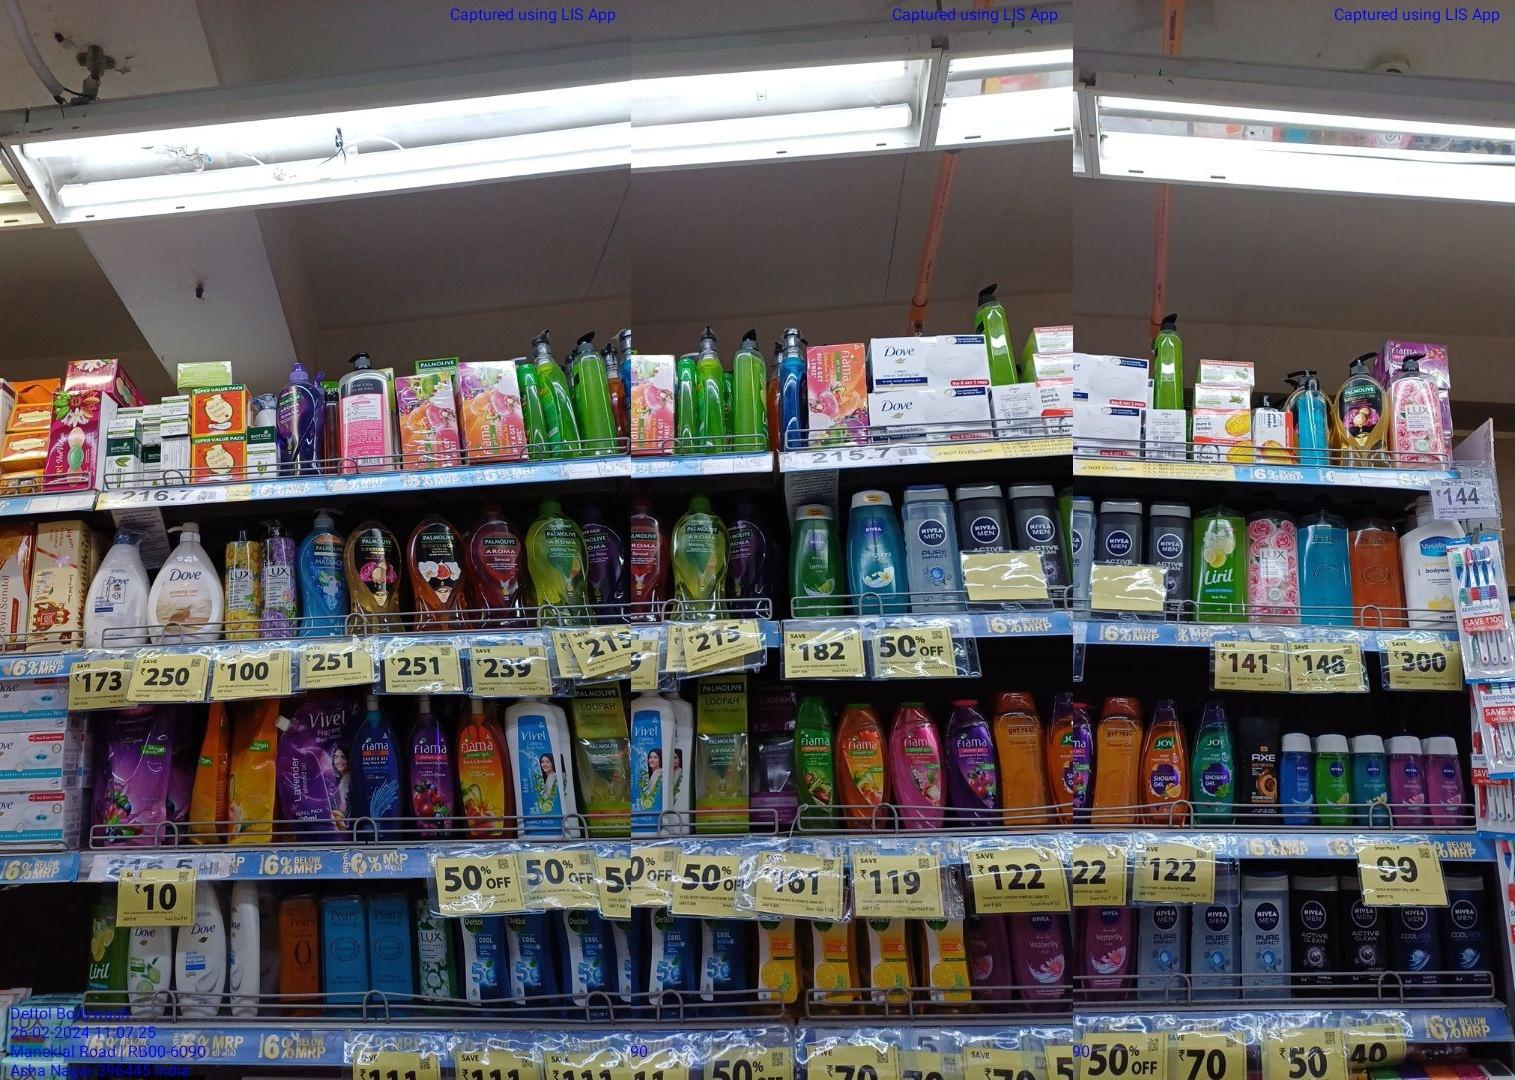Dettol_Bodywash_Cool: (560, 904, 610, 1016), (648, 907, 694, 1019), (461, 913, 511, 1005), (512, 914, 559, 1011), (698, 915, 748, 1003), (611, 908, 646, 1010)
Dettol_Bodywash_Refresh: (864, 916, 918, 1004), (808, 918, 862, 1004), (919, 919, 971, 1002), (755, 920, 801, 1004)
Dove_Gentle_Exfoliating_Body_Wash_250ML: (175, 887, 224, 1019)
Dove_Refreshing_Body_Wash_250ML: (126, 923, 170, 1020)
Fiama_Shower_Gel_Lemongrass_and_Jojoba_250ML: (796, 692, 837, 829)
Fiama_Shower_Gel_Patchouli_and_Macadamia_250ML: (886, 698, 945, 826)
Fiama_Shower_Gel_Peach_and_Avocado_250ML: (836, 701, 885, 831)
Get_Real_Shower_Gel_Moisturising_Glycerin_300ML: (992, 691, 1049, 826), (1091, 693, 1139, 823)
Joy_Shower_Gel_Mandarin_and_Lemongrass_250ML: (1143, 693, 1189, 825)
Joy_Shower_Gel_Mint_and_Eucalyptus_250ML: (1192, 698, 1234, 825)
Lux_Black_Orchid_Scent_and_Juniper_Oil_Body_Wash_245ML: (261, 514, 296, 641)
Nivea_Shower_Gel_Frangipani_and_Oil_250ML: (848, 489, 906, 616), (1351, 731, 1389, 823)
Nivea_Shower_Gel_Lemon_and_Oil_250ML: (791, 503, 842, 616), (1314, 731, 1354, 825)
Nivea_Shower_Gel_Waterlily_and_Oil_250ML: (1078, 902, 1136, 1004), (1012, 909, 1071, 1003), (1426, 735, 1468, 825), (1391, 733, 1431, 824)
